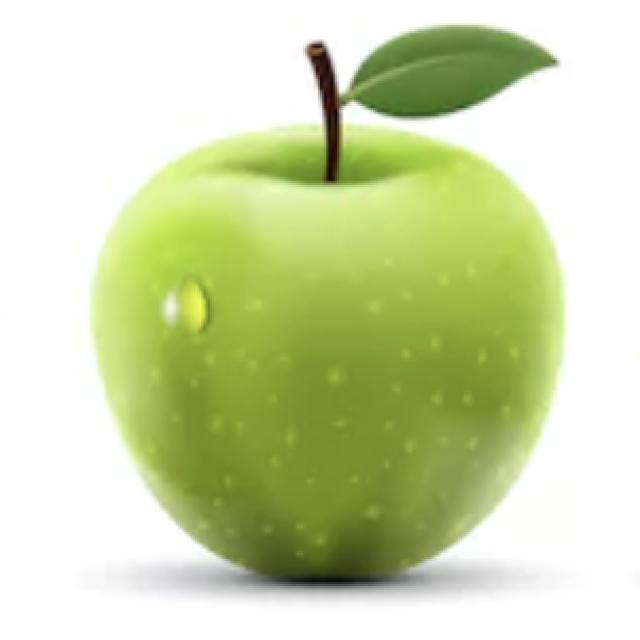Fresh Apple: (118, 125, 555, 577)
